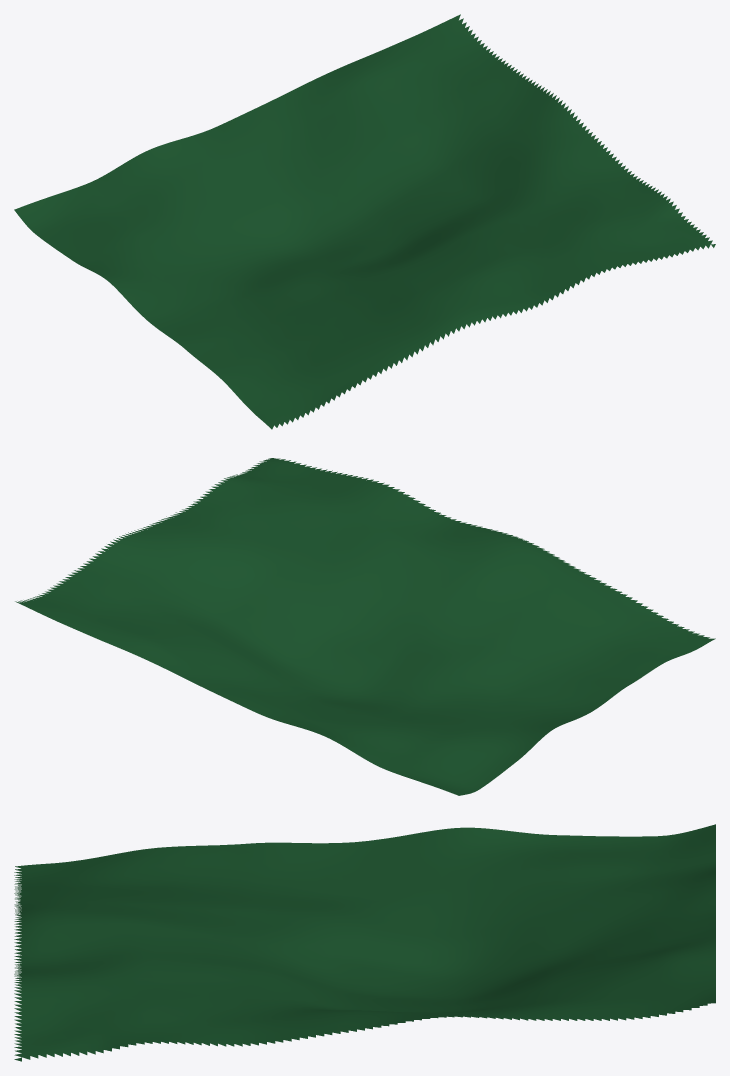
File: payo_land_x2_y1_lod1.glb
3 views of the same model, one above another, from view 1: azimuth 30°, elevation 25°; view 2: azimuth 150°, elevation 25°; view 3: azimuth 270°, elevation 25° (orthographic). The views are drawn at different scales.
Visible parts, largest first — view 1: payo_land_x2_y1; view 2: payo_land_x2_y1; view 3: payo_land_x2_y1.
Part boxes in pixels (box(x1,y1,x2,y2)): payo_land_x2_y1: box(14, 14, 715, 429); payo_land_x2_y1: box(15, 458, 715, 795); payo_land_x2_y1: box(14, 824, 715, 1061).
Size of the model in its own units: 258 by 64.91 by 258.
